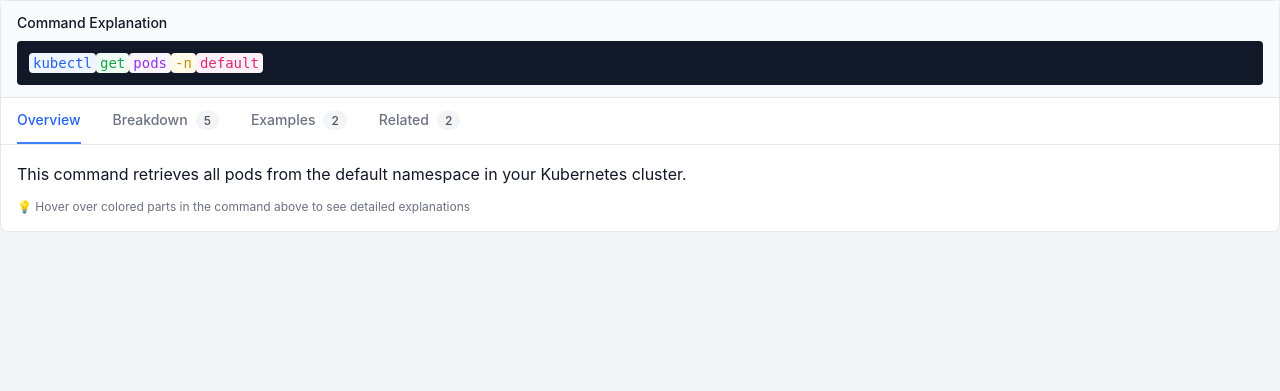
Scenario: CommandExplanation › Tab Navigation › switches to examples tab when clicked
Click the button "Examples2": (299, 121) [251,98,347,144]
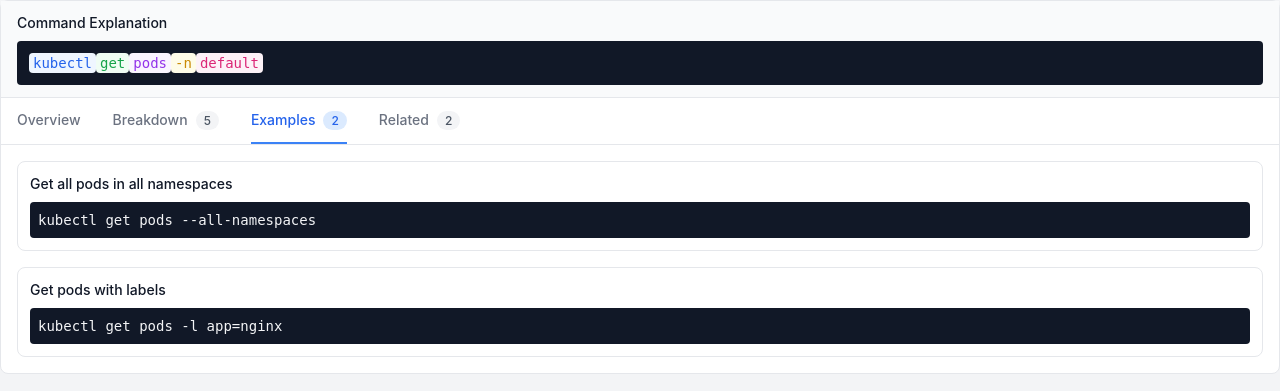
Result: the heading "Get all pods in all namespaces" is shown at [30,175,232,192]
Result: the text "kubectl get pods --all-namespaces" is shown at [30,202,1250,238]
